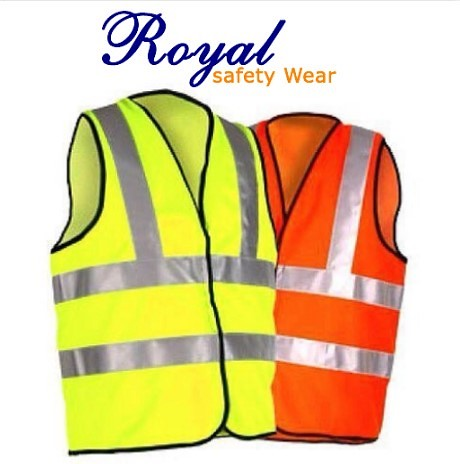Reflective vest: (50, 90, 279, 450), (237, 109, 409, 443)
